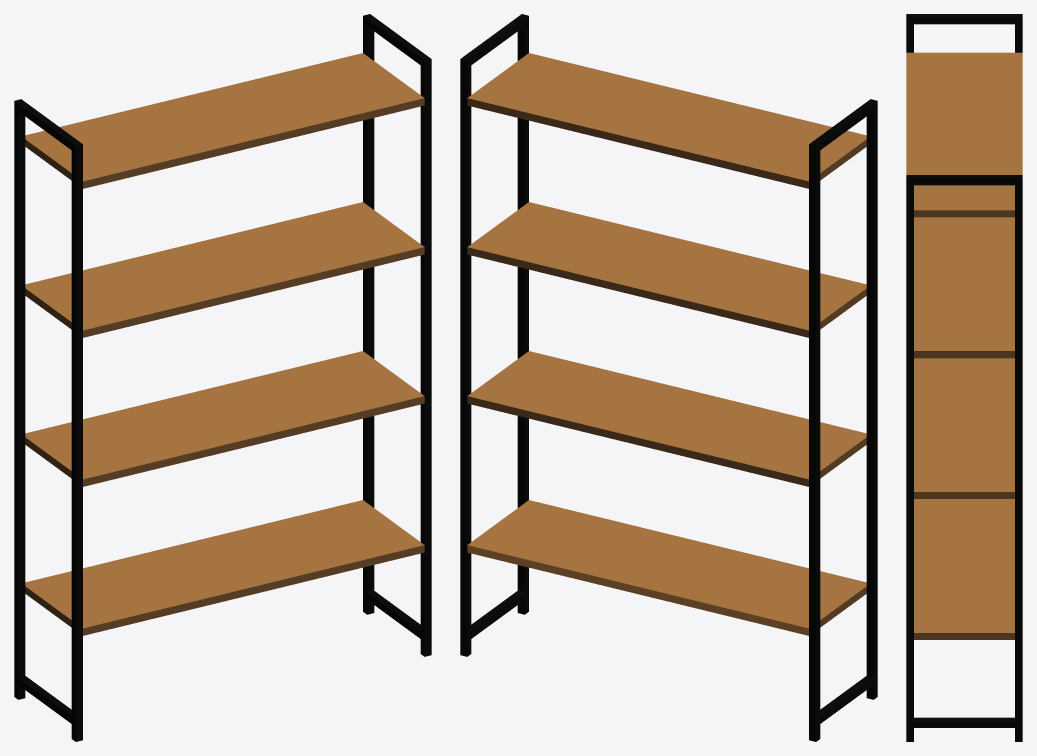
The model's file is SmallWoodMetalShelf 1.fbx.
3 views of the same model, side by side, from view 1: azimuth 30°, elevation 25°; view 2: azimuth 150°, elevation 25°; view 3: azimuth 270°, elevation 25° (orthographic). The views are drawn at different scales.
Parts seen in each view (by area): view 1: SmallWoodMetalShelf; view 2: SmallWoodMetalShelf; view 3: SmallWoodMetalShelf.
Boxes of the visible parts, box(x1,y1,x2,y2) form: SmallWoodMetalShelf: box(14, 14, 431, 741); SmallWoodMetalShelf: box(460, 14, 877, 741); SmallWoodMetalShelf: box(906, 14, 1022, 741).
Bounding box in the file's own units: 100 × 160 × 30.
